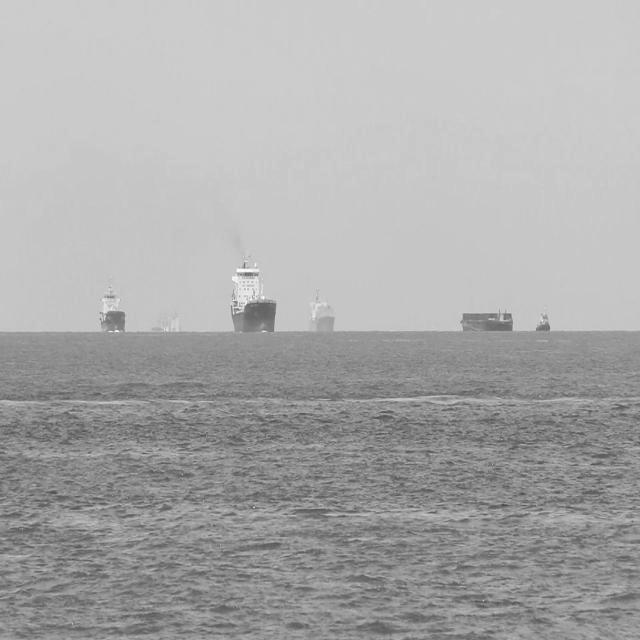ship: (228, 248, 280, 338), (458, 303, 516, 336), (98, 274, 127, 338), (306, 286, 338, 340), (532, 308, 554, 336)
